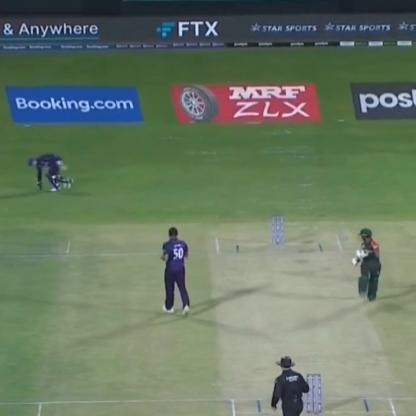pitch: (202, 220, 406, 416)
